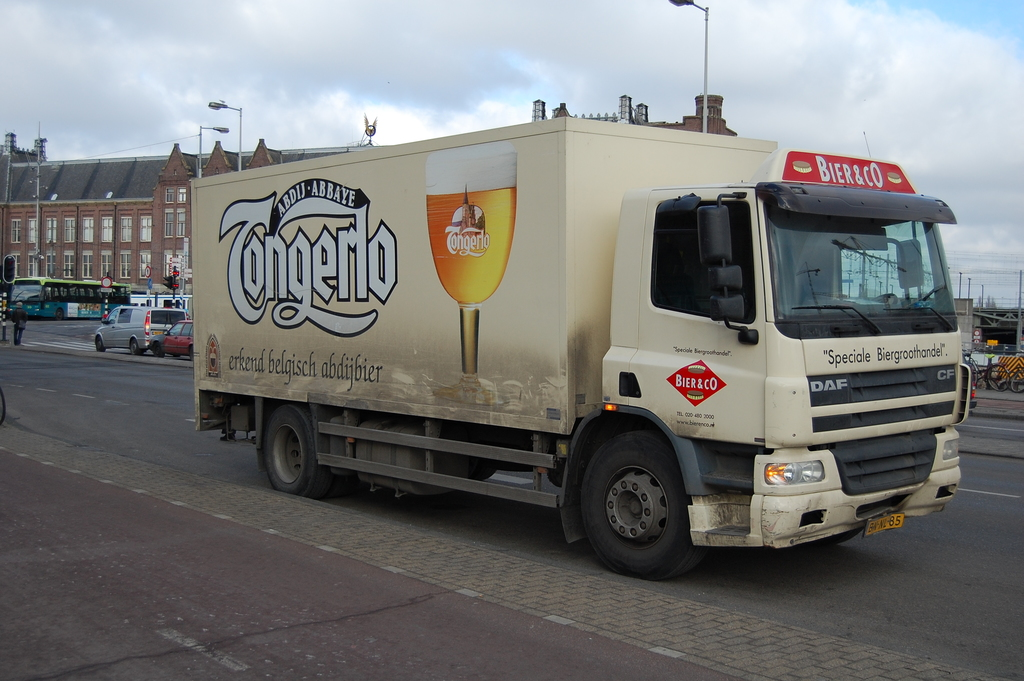Car: (147, 315, 192, 358)
